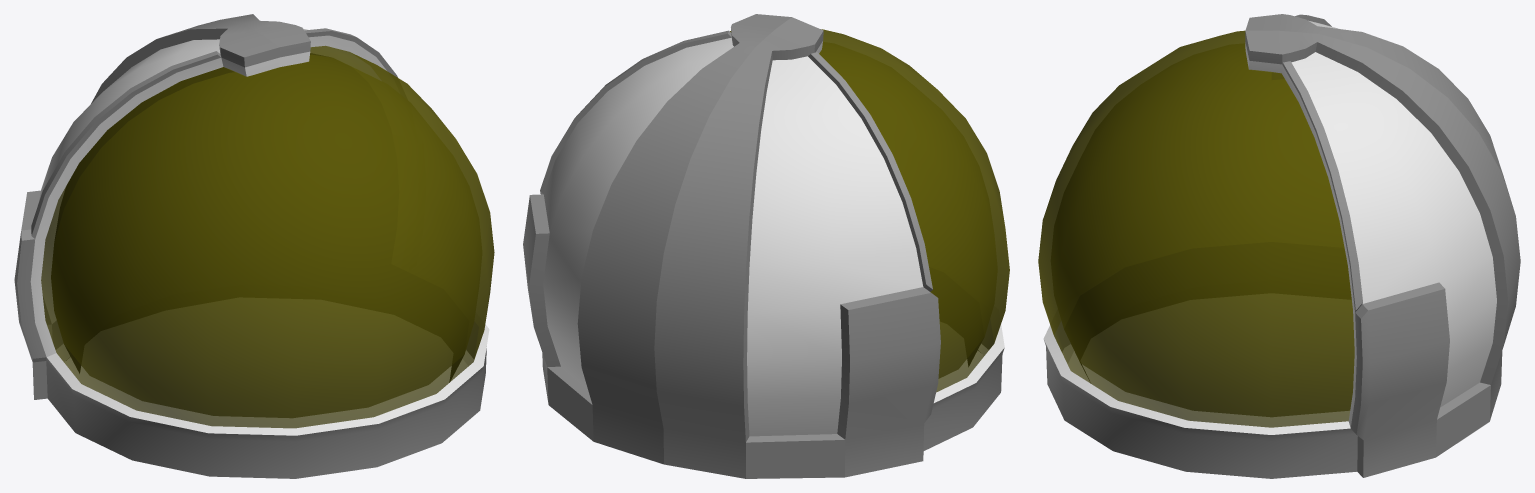
Rendered from AstronautHelmet.fbx.
3 renders of one model, left to right at view 1: azimuth 30°, elevation 25°; view 2: azimuth 150°, elevation 25°; view 3: azimuth 270°, elevation 25°, orthographic.
Parts seen in each view (by area): view 1: Sphere, Sphere.001; view 2: Sphere, Sphere.001; view 3: Sphere, Sphere.001.
Part boxes in pixels (x1,y1,x2,y2): Sphere: (14, 14, 494, 478); Sphere.001: (51, 53, 481, 417); Sphere: (523, 14, 1009, 478); Sphere.001: (820, 42, 997, 377); Sphere: (1038, 14, 1520, 478); Sphere.001: (1051, 43, 1353, 416).
Bounding box in the file's own units: 68.76 × 56.09 × 69.16.
